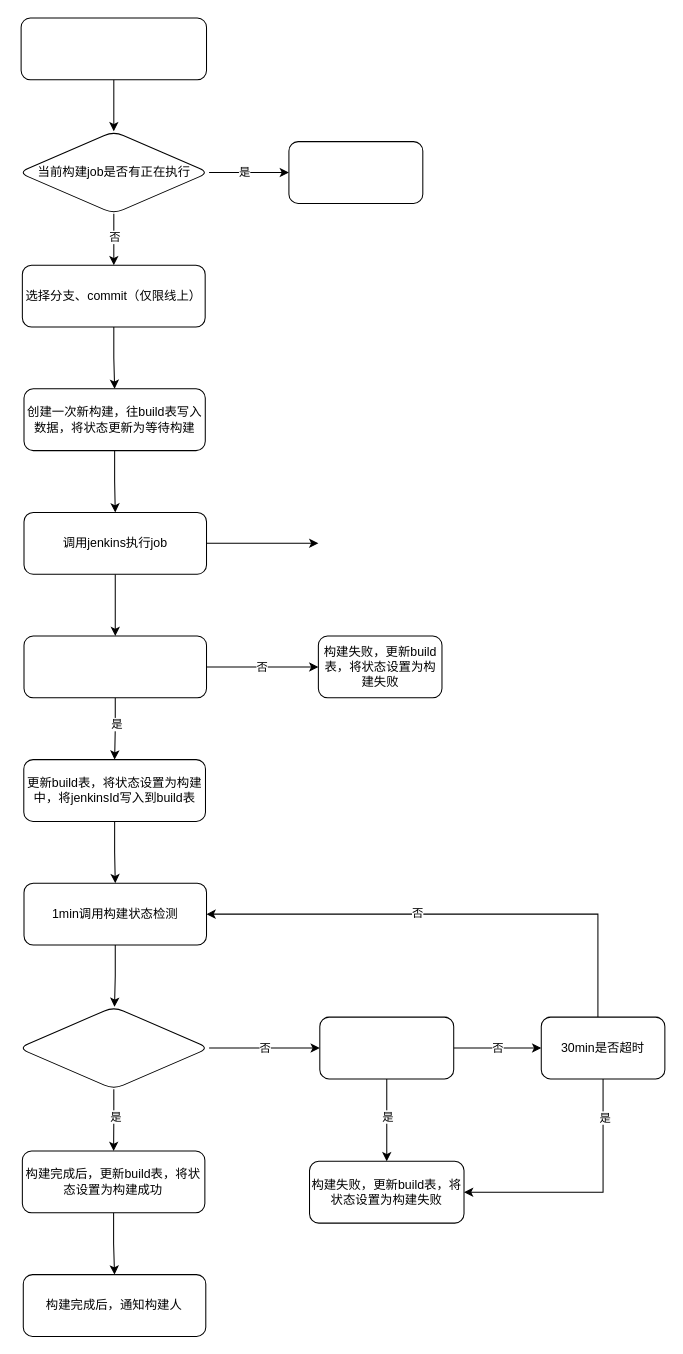
The diagram is 683 pixels wide and 1354 high, and some of its shapes have lost their labels. The centre of each missing label's shape, as x and y in pixels:
"发起构建是否成功" belongs at [115,666].
"提示有正在执行的构建" belongs at [355,172].
"是否失败" belongs at [386,1047].
"构建是否成功" belongs at [113,1047].
"点击构建按钮" belongs at [113,48].
